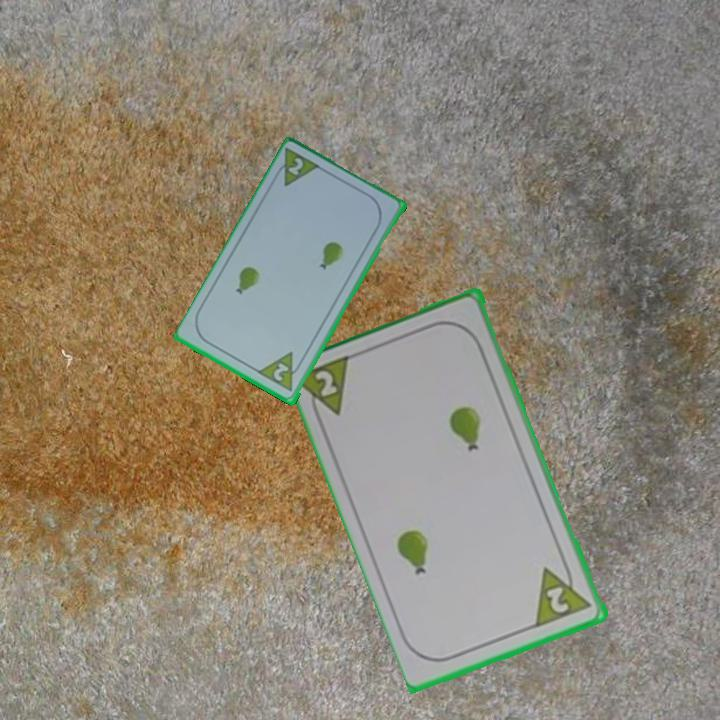2p: (294, 350, 357, 428), (532, 557, 595, 630), (256, 349, 307, 395), (285, 154, 307, 179)
